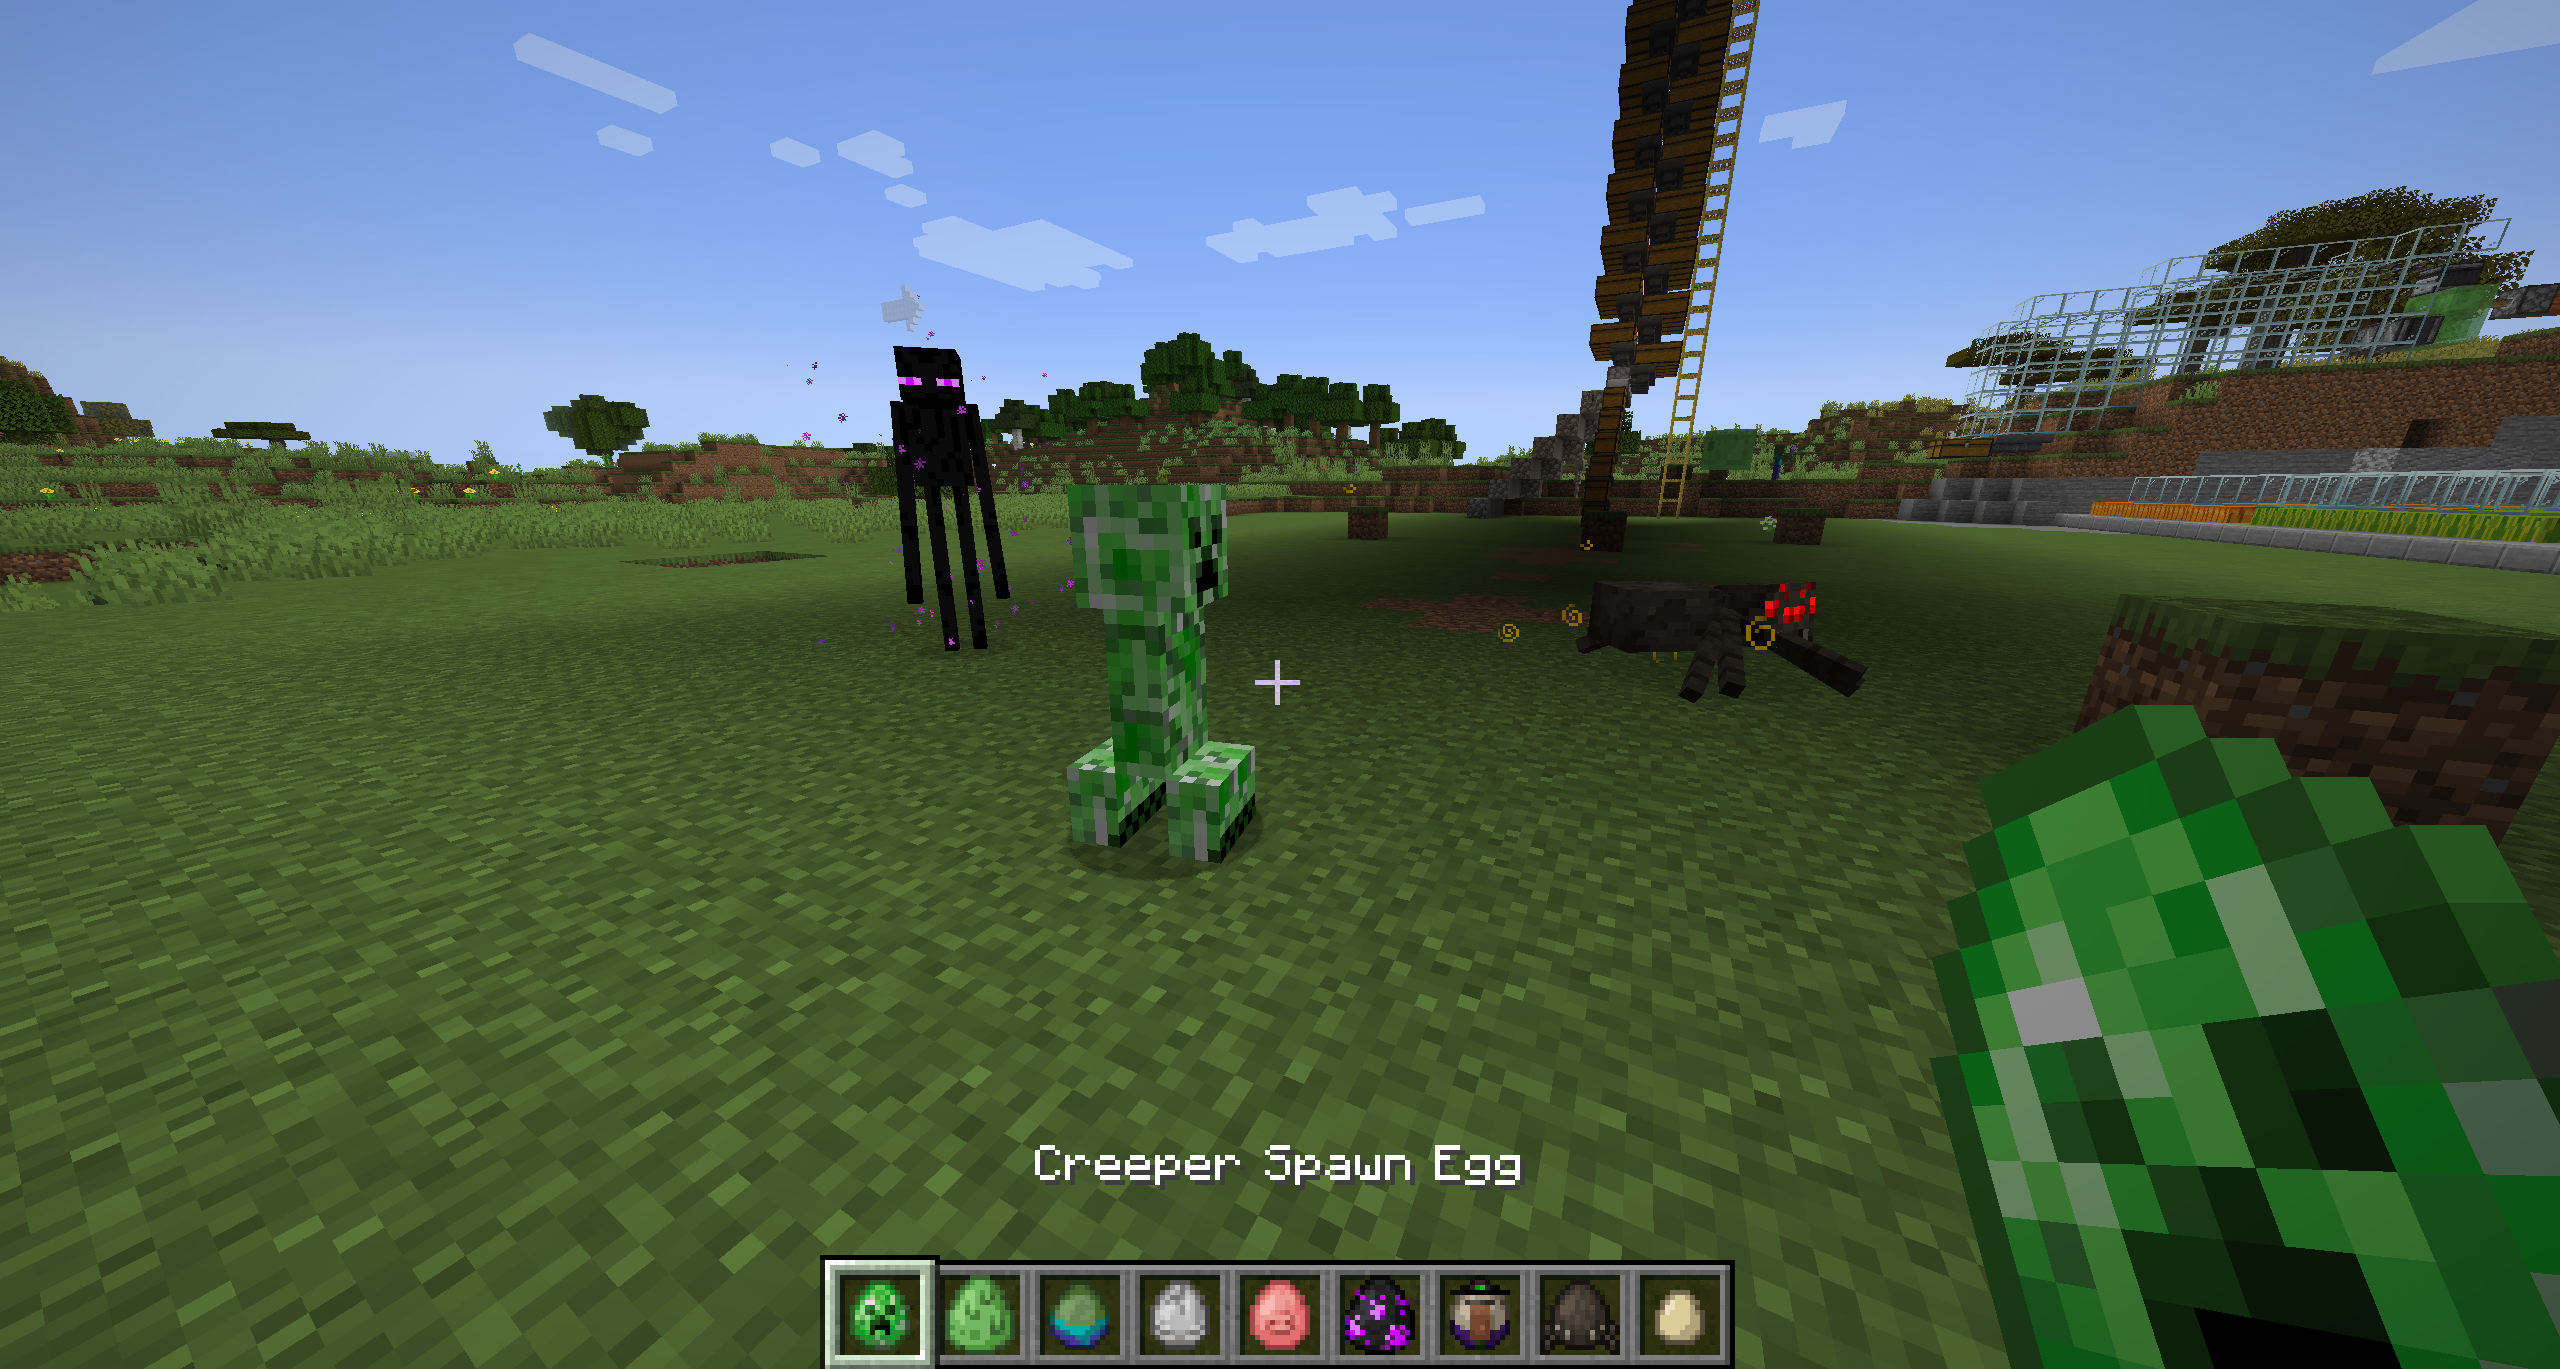araignees: (1593, 572, 1847, 712)
creepers: (1063, 477, 1261, 866)
endermens: (886, 342, 1007, 658)
slimes: (1703, 425, 1754, 476)
zombies: (1769, 443, 1788, 484)
